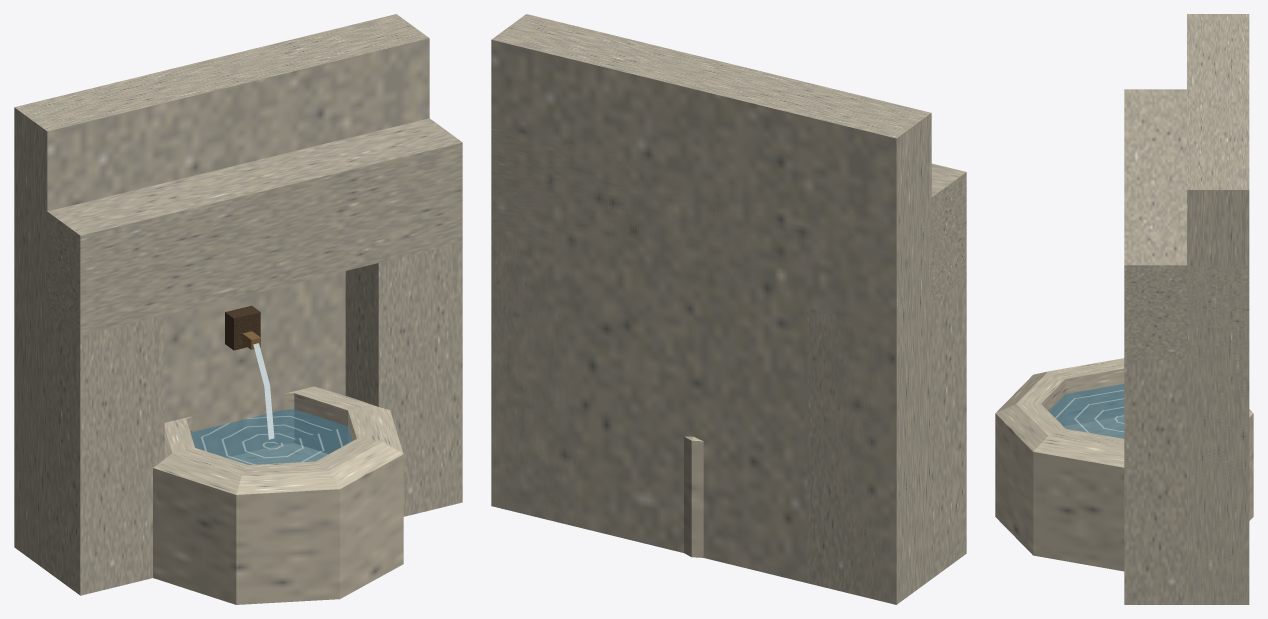
The model's file is brunnen_v7.glb.
3 views of the same model, side by side, from view 1: azimuth 30°, elevation 25°; view 2: azimuth 150°, elevation 25°; view 3: azimuth 270°, elevation 25° (orthographic). The views are drawn at different scales.
Visible parts, largest first — view 1: V7; view 2: V7; view 3: V7.
Part boxes in pixels (box(x1,y1,x2,y2)): V7: box(14, 14, 462, 604); V7: box(491, 14, 966, 604); V7: box(995, 14, 1253, 604).
Size of the model in its own units: 2 by 2.2 by 1.24.
Materials: 2 (2 with a texture image).
